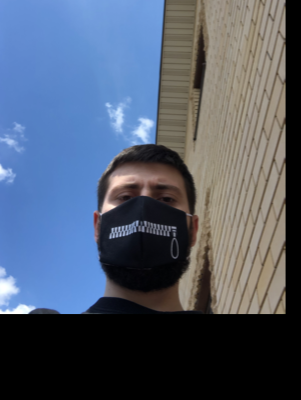with_mask: (98, 176, 191, 293)
